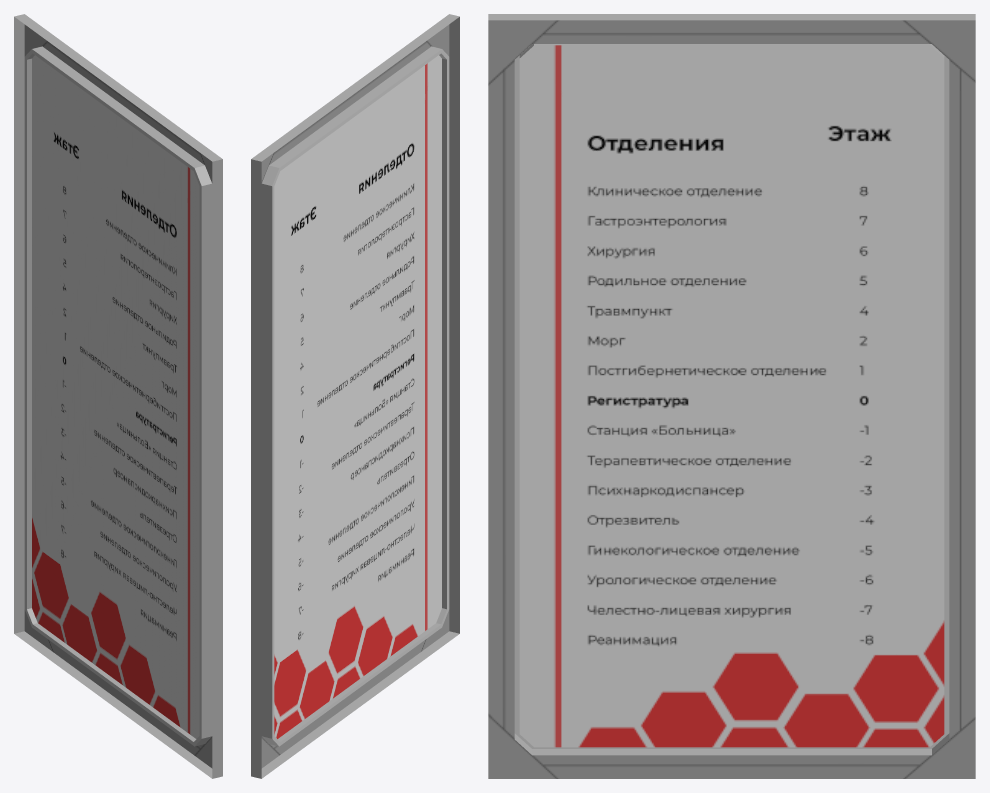
Rendered from Med Floors List.fbx.
The picture shows the model from 3 angles, left to right: view 1: azimuth 30°, elevation 25°; view 2: azimuth 150°, elevation 25°; view 3: azimuth 270°, elevation 25°; orthographic projection. The views are drawn at different scales.
Visible parts, largest first — view 1: Plane.002; view 2: Plane.002; view 3: Plane.002.
Boxes of the visible parts, x1,y1,x2,y2 form: Plane.002: (14, 14, 222, 778); Plane.002: (251, 14, 459, 778); Plane.002: (488, 14, 975, 778).
Size of the model in its own units: 0.0716 by 4.01 by 2.34.
